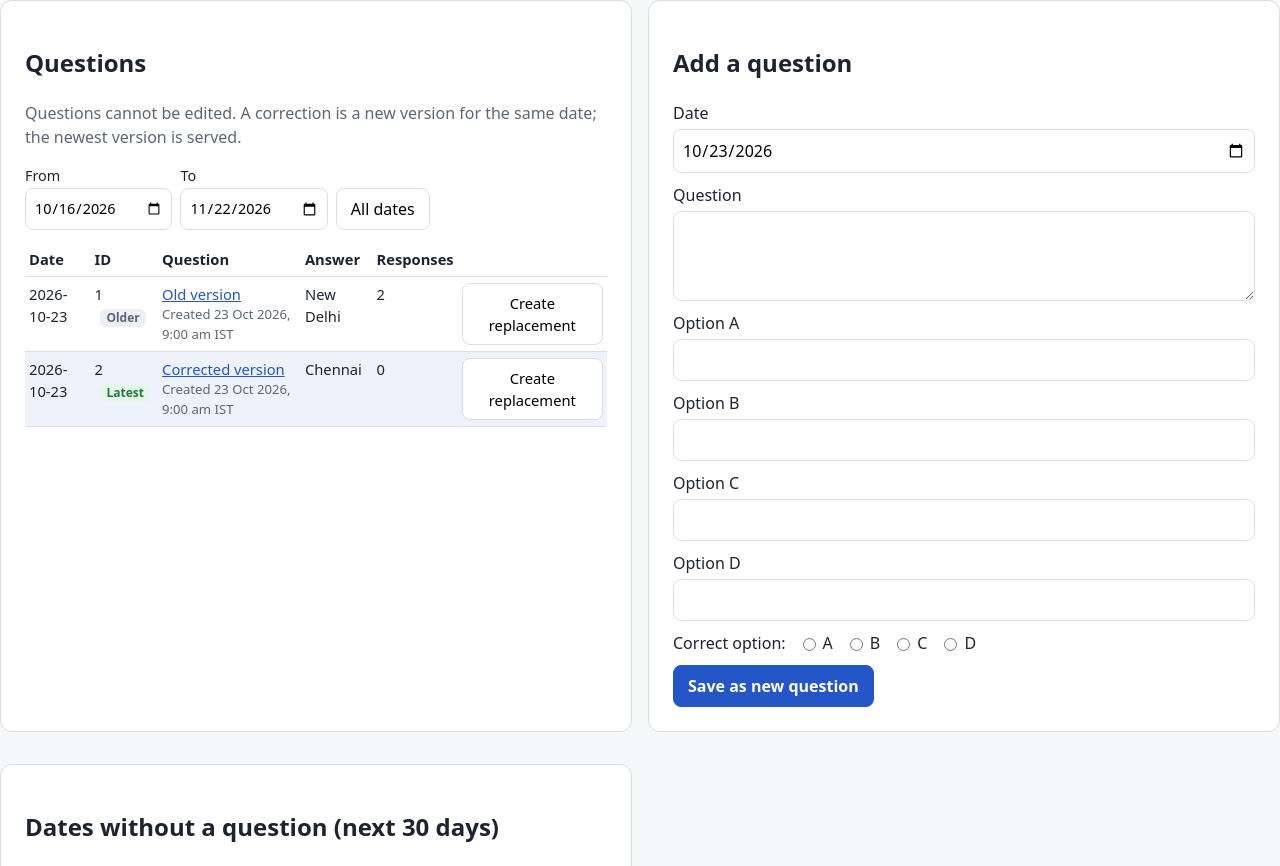
Admin › "Create replacement" prefills a new insert and never edits the original
Click the button "Create replacement" in the row of "Latest".
click(532, 389)  # box [462,358,603,420]
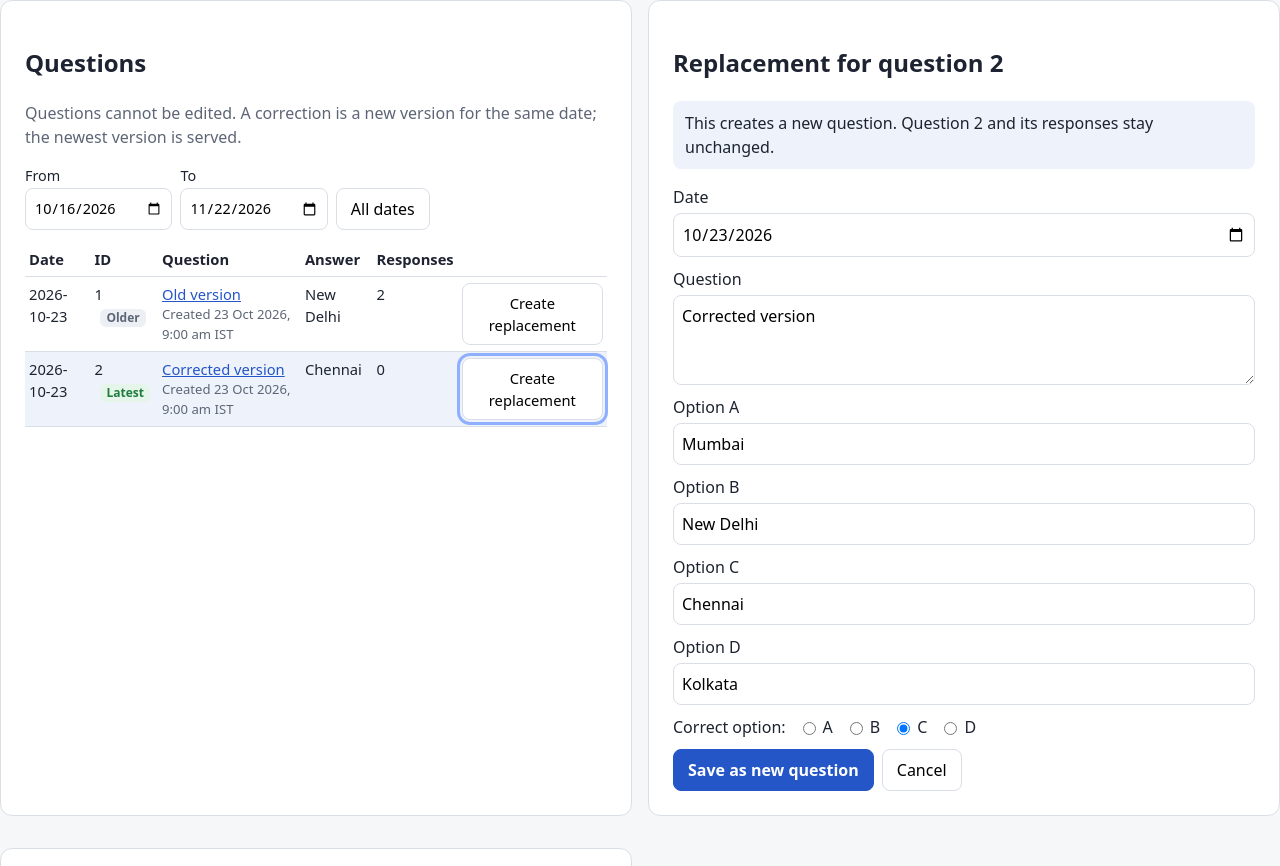
Expected: the text "Question 2 and its responses stay unchanged" is shown, [673,101,1255,169]
Expected: the text box labelled "Question" holds "Corrected version"
Expected: the radio button labelled "C" is checked, [897,718,910,739]
Replace the text in the text box labelled "Question" with "Third version" at (964,340), box [673,295,1255,385]
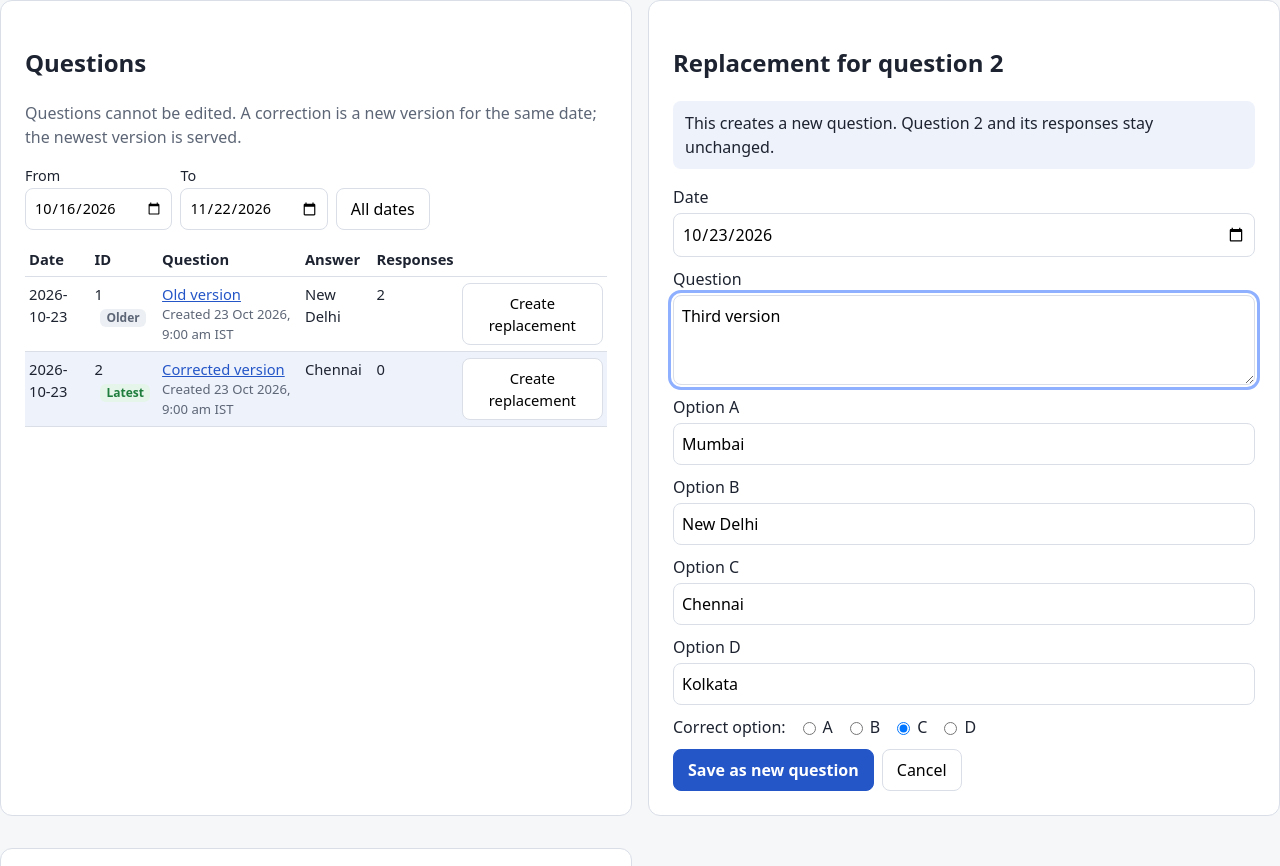
Click the button "Save as new question".
click(773, 770)  # box [673,749,874,791]
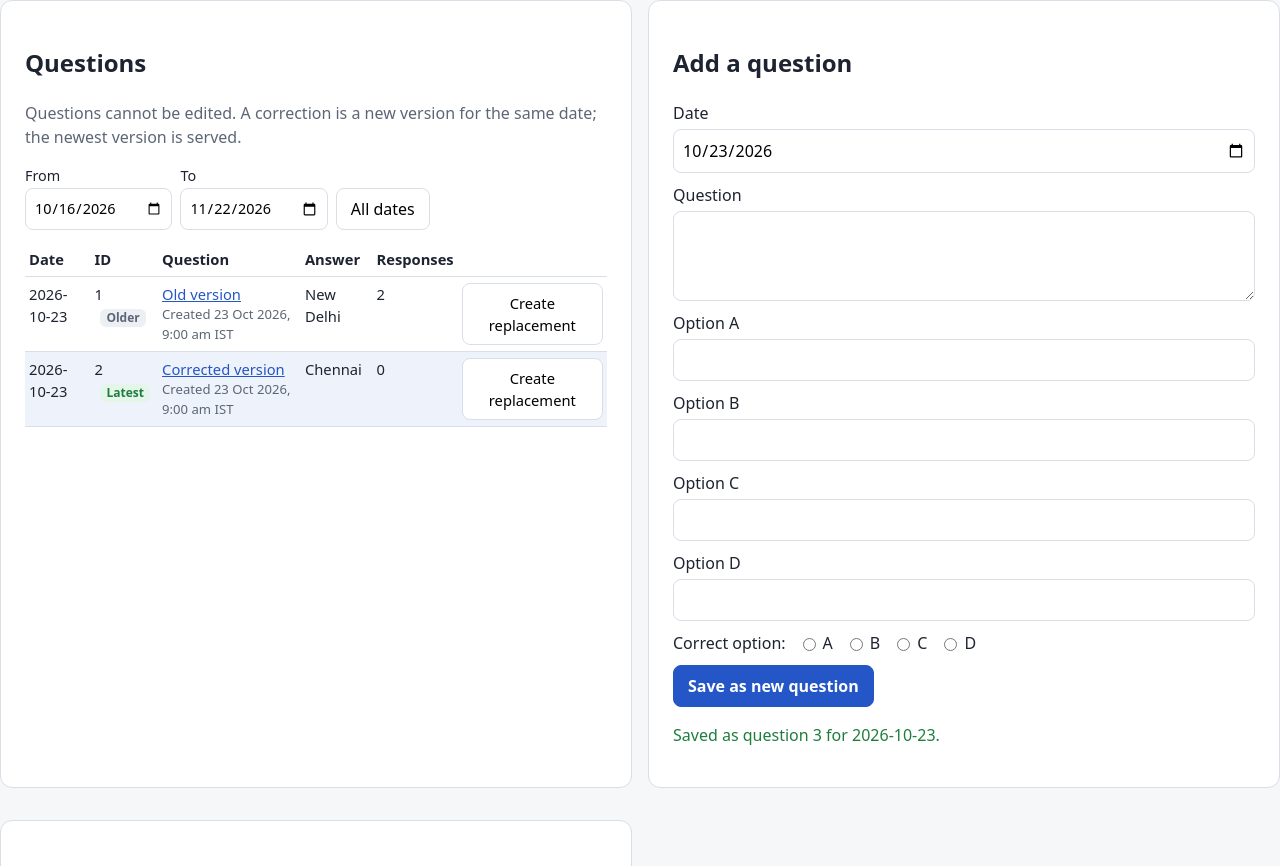
Expected: the text "Saved as question 3 for 2026-10-23." is shown, [673,724,940,746]
